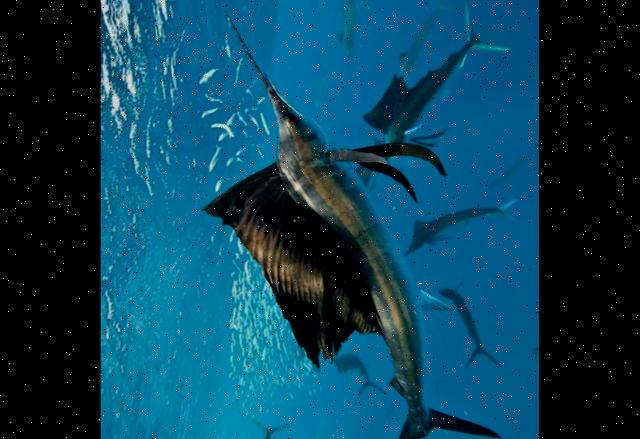Sirip Anal: (382, 366, 417, 405)
Sirip Dada: (310, 144, 401, 181)
Sirip Ekor: (359, 406, 511, 439)
Sirip Perut: (400, 279, 459, 328)
Sirip Punggung: (185, 148, 394, 376)
